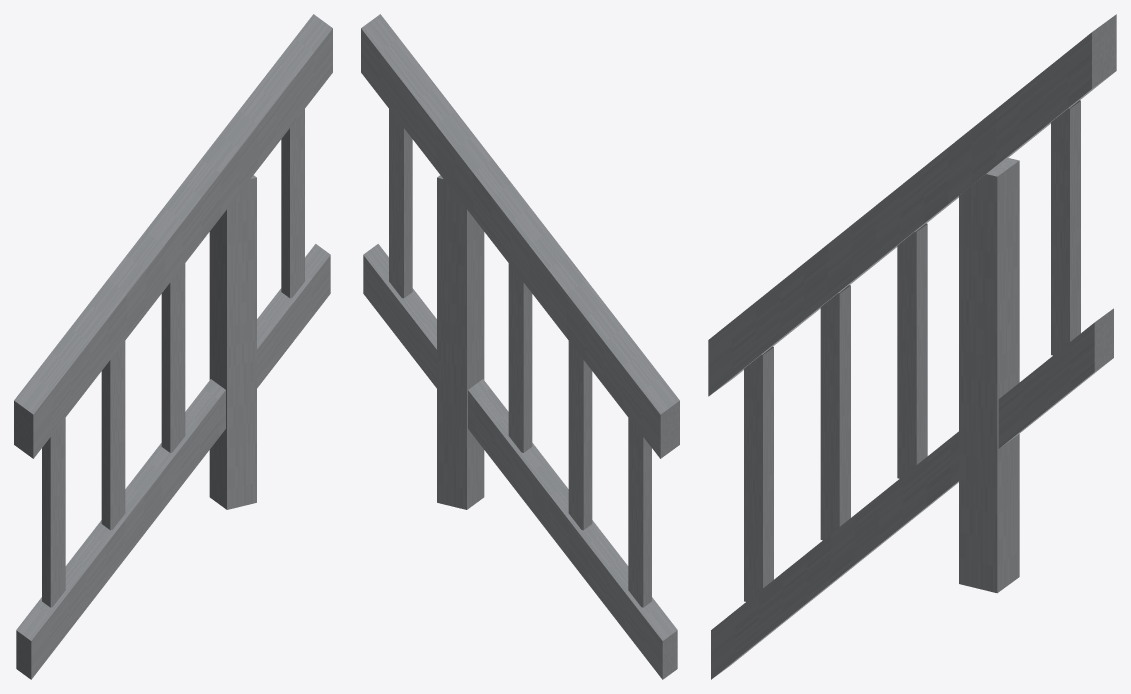
The model's file is mid_pos.obj.
3 views of the same model, side by side, from view 1: azimuth 30°, elevation 25°; view 2: azimuth 150°, elevation 25°; view 3: azimuth 330°, elevation 25° (orthographic). The views are drawn at different scales.
Visible parts, largest first — view 1: railing_picket_grey_mid_pos; view 2: railing_picket_grey_mid_pos; view 3: railing_picket_grey_mid_pos.
Part boxes in pixels (x1=…): railing_picket_grey_mid_pos: x1=14, y1=14, x2=332, y2=679; railing_picket_grey_mid_pos: x1=361, y1=14, x2=679, y2=679; railing_picket_grey_mid_pos: x1=708, y1=14, x2=1116, y2=679.
Bounding box in the file's own units: 1 × 1.85 × 0.1125.
